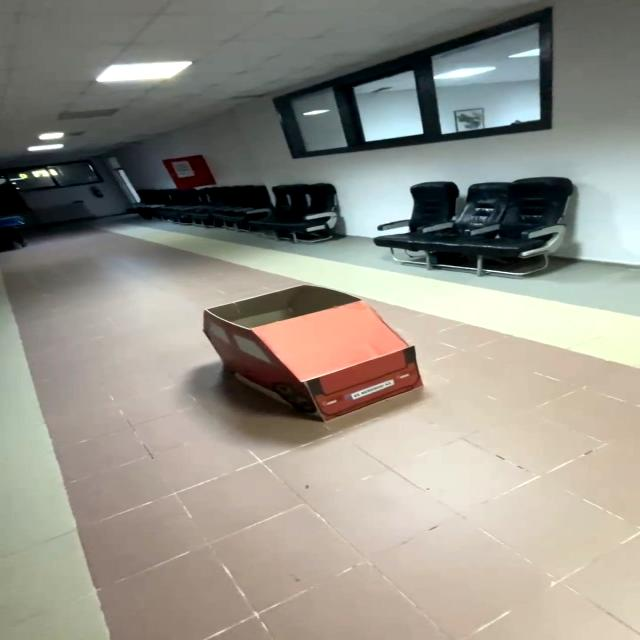red_car: (187, 272, 445, 427)
